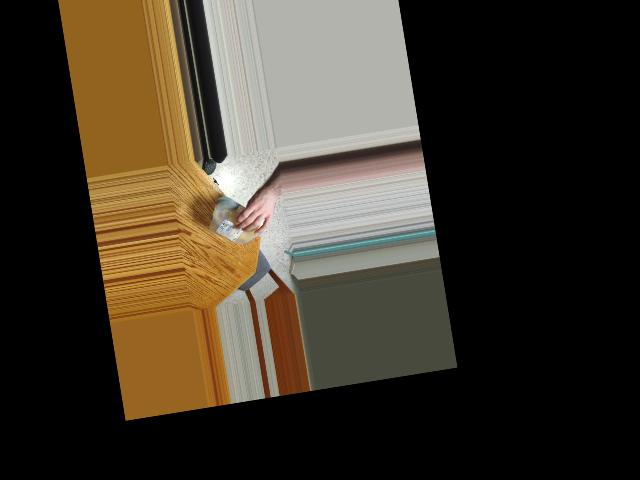cheese: (202, 190, 272, 251)
